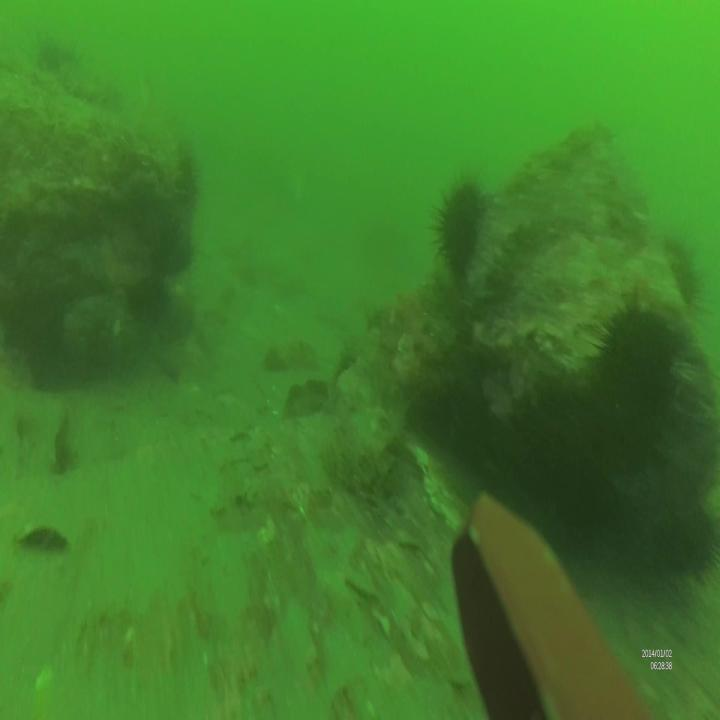echinus: (590, 292, 691, 457), (427, 166, 496, 282), (656, 236, 716, 334)
